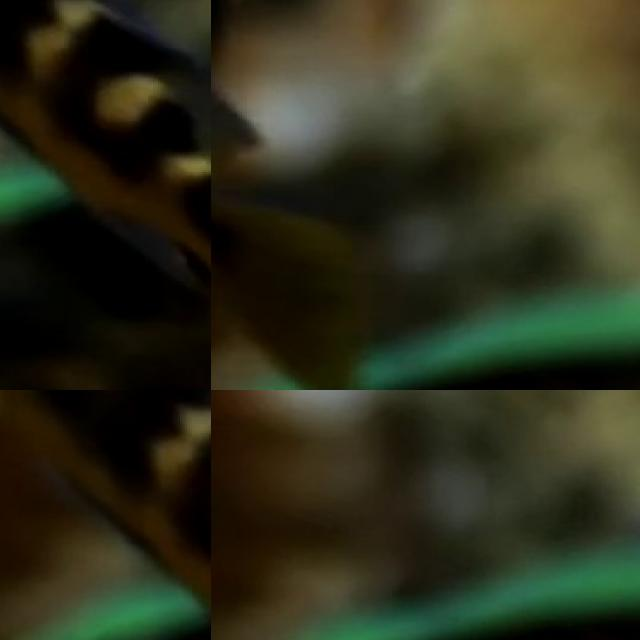fish: (0, 0, 211, 390), (0, 390, 211, 640)
